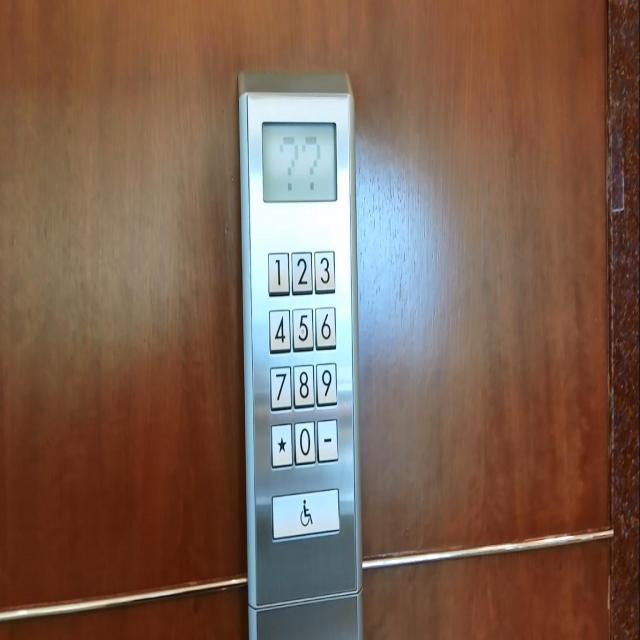-: (315, 415, 340, 463)
0: (294, 418, 316, 467)
1: (266, 248, 289, 296)
2: (291, 251, 312, 297)
3: (313, 248, 335, 296)
4: (268, 308, 290, 354)
5: (291, 303, 313, 352)
6: (314, 304, 337, 352)
7: (269, 363, 290, 411)
8: (291, 362, 313, 408)
9: (314, 360, 338, 407)
CH: (270, 486, 342, 541)
led: (260, 117, 336, 205)
s: (270, 419, 292, 470)
